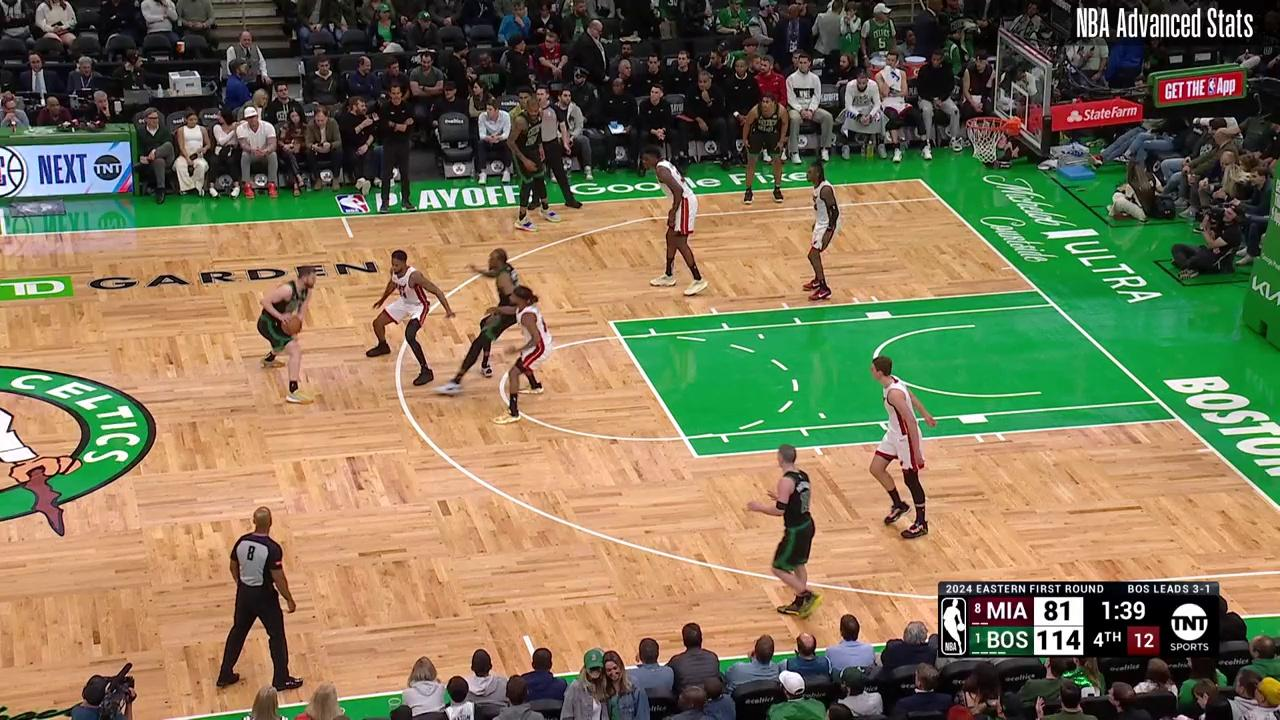3_sx: (931, 191, 945, 205)
b_sx: (912, 173, 927, 187)
free_adx: (689, 449, 703, 464)
free_asx: (601, 315, 619, 330)
free_bdx: (1169, 410, 1188, 427)
free_bsx: (1030, 283, 1045, 297)
mid_dx: (519, 630, 531, 641)
mid_sx: (344, 232, 359, 243)
referee: (211, 501, 306, 691), (529, 81, 585, 215)
team: (747, 444, 828, 615), (437, 248, 522, 392), (255, 262, 321, 407), (511, 101, 558, 230), (739, 90, 791, 204)
team1: (865, 355, 936, 539), (366, 250, 453, 390), (636, 143, 710, 295), (498, 287, 552, 427), (802, 163, 839, 302)
timer: (1093, 594, 1151, 624)
